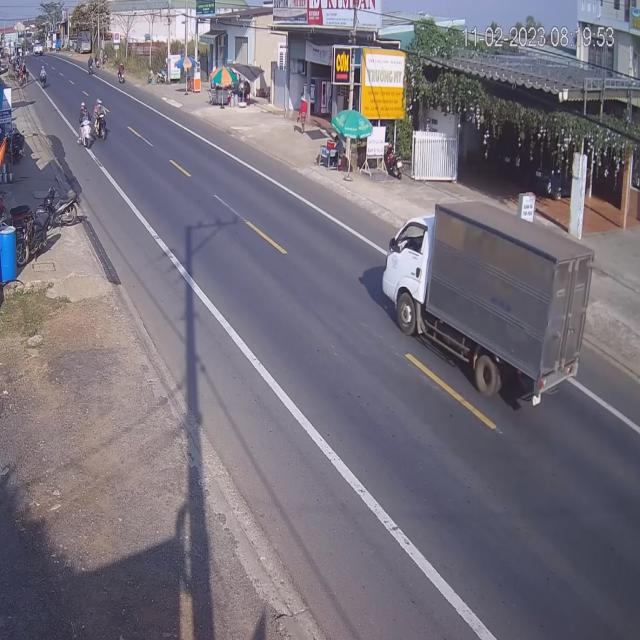motorbike: (77, 104, 92, 151), (93, 102, 106, 146)
truck: (383, 197, 594, 410)
